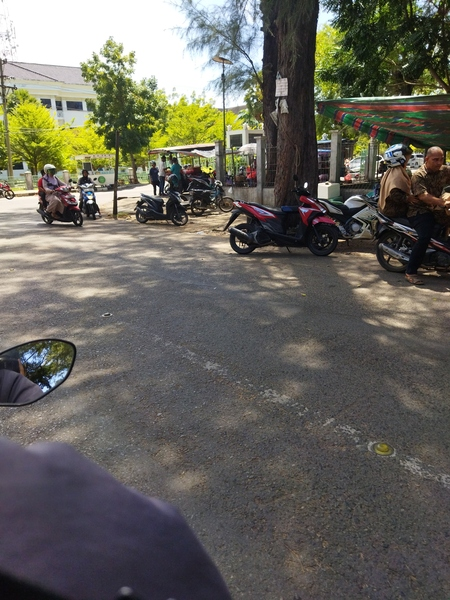motorcycle: (225, 182, 343, 261), (372, 206, 450, 279), (131, 183, 190, 227), (34, 185, 84, 230), (77, 183, 102, 219)
person: (408, 144, 450, 287), (379, 141, 417, 222), (41, 163, 68, 219)
